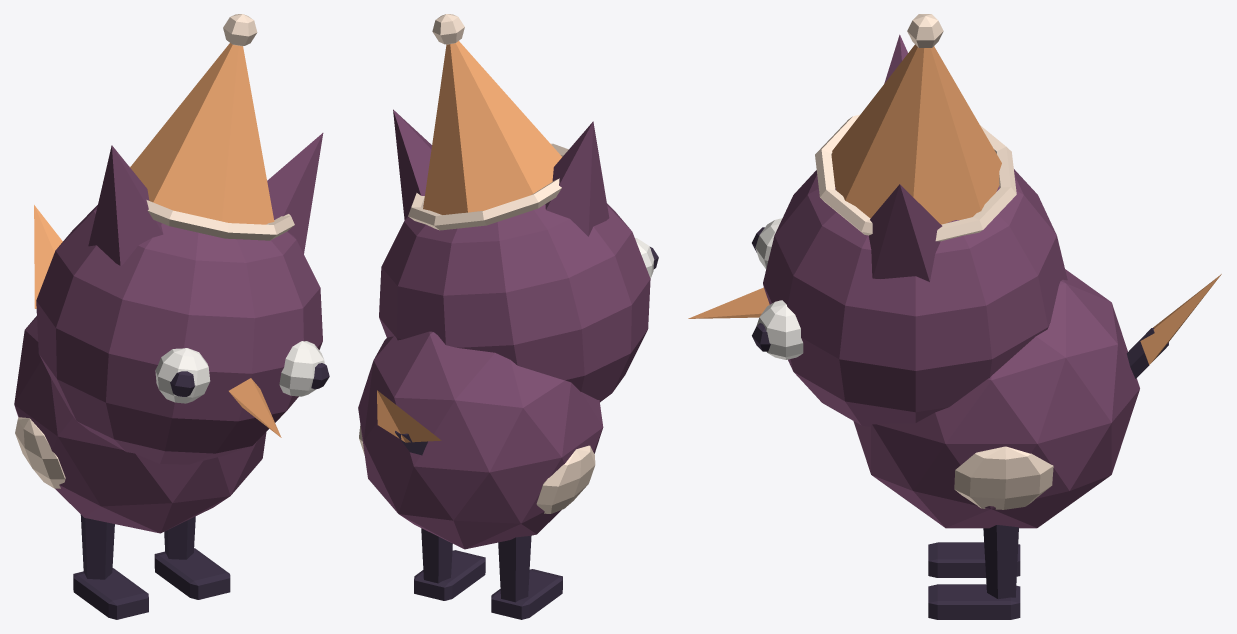
Rendered from bird-graveyard-2.glb.
The picture shows the model from 3 angles, left to right: view 1: azimuth 30°, elevation 25°; view 2: azimuth 150°, elevation 25°; view 3: azimuth 270°, elevation 25°; orthographic projection. The views are drawn at different scales.
Parts seen in each view (by area): view 1: bird-graveyard-2; view 2: bird-graveyard-2; view 3: bird-graveyard-2.
Boxes of the visible parts, x1,y1,x2,y2 form: bird-graveyard-2: [14, 14, 329, 619]; bird-graveyard-2: [358, 14, 658, 619]; bird-graveyard-2: [688, 14, 1221, 619].
Size of the model in its own units: 0.4233 by 0.9 by 0.7162.
